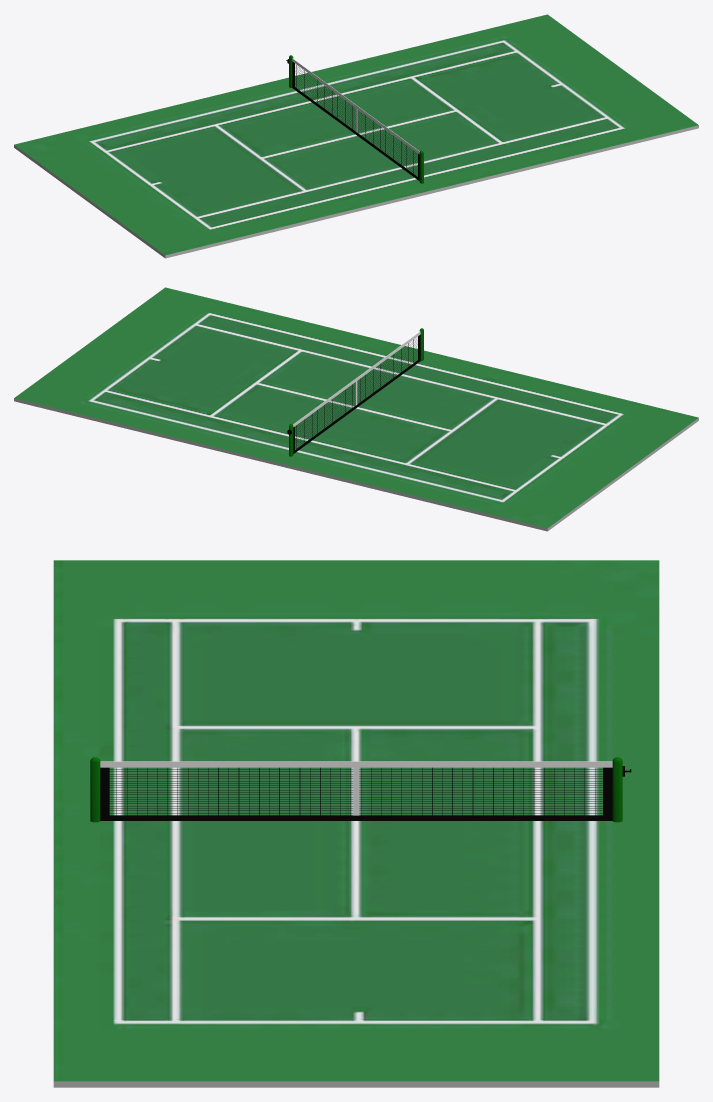
Rendered from TennisCourt.fbx.
3 renders of one model, top to bottom at view 1: azimuth 30°, elevation 25°; view 2: azimuth 150°, elevation 25°; view 3: azimuth 270°, elevation 25°, orthographic. The views are drawn at different scales.
Visible parts, largest first — view 1: Court, Net; view 2: Court, Net; view 3: Court, Net.
Boxes of the visible parts, bbox=[...] form: Court: bbox=[14, 14, 698, 258]; Net: bbox=[286, 55, 423, 183]; Court: bbox=[14, 287, 698, 531]; Net: bbox=[287, 328, 423, 456]; Court: bbox=[53, 560, 659, 1087]; Net: bbox=[90, 757, 631, 822].
Bounding box in the file's own units: 1448 × 96.9 × 711.
